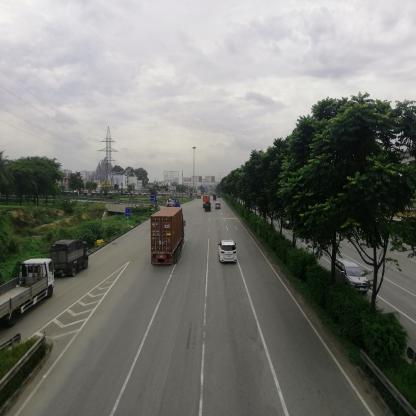car: (333, 261, 368, 289), (219, 242, 237, 264), (217, 204, 223, 209)
container: (152, 208, 182, 265)
truck: (7, 260, 53, 321), (56, 241, 89, 278), (166, 199, 182, 207)
